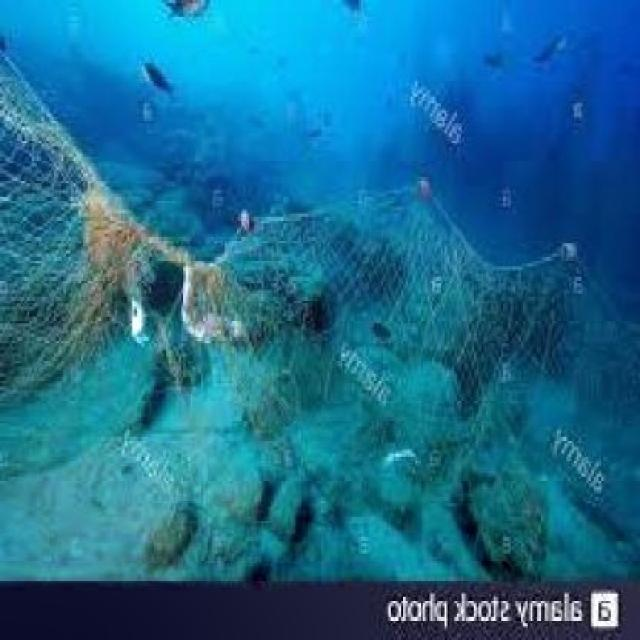net: (195, 176, 608, 522), (0, 42, 157, 409)
